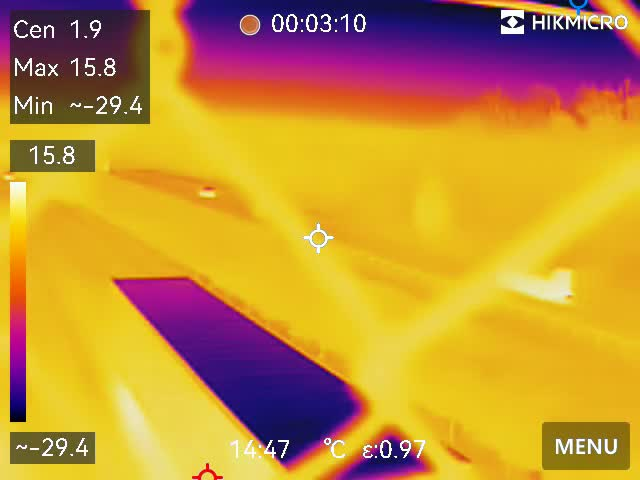heavyTruck: (99, 267, 449, 480)
